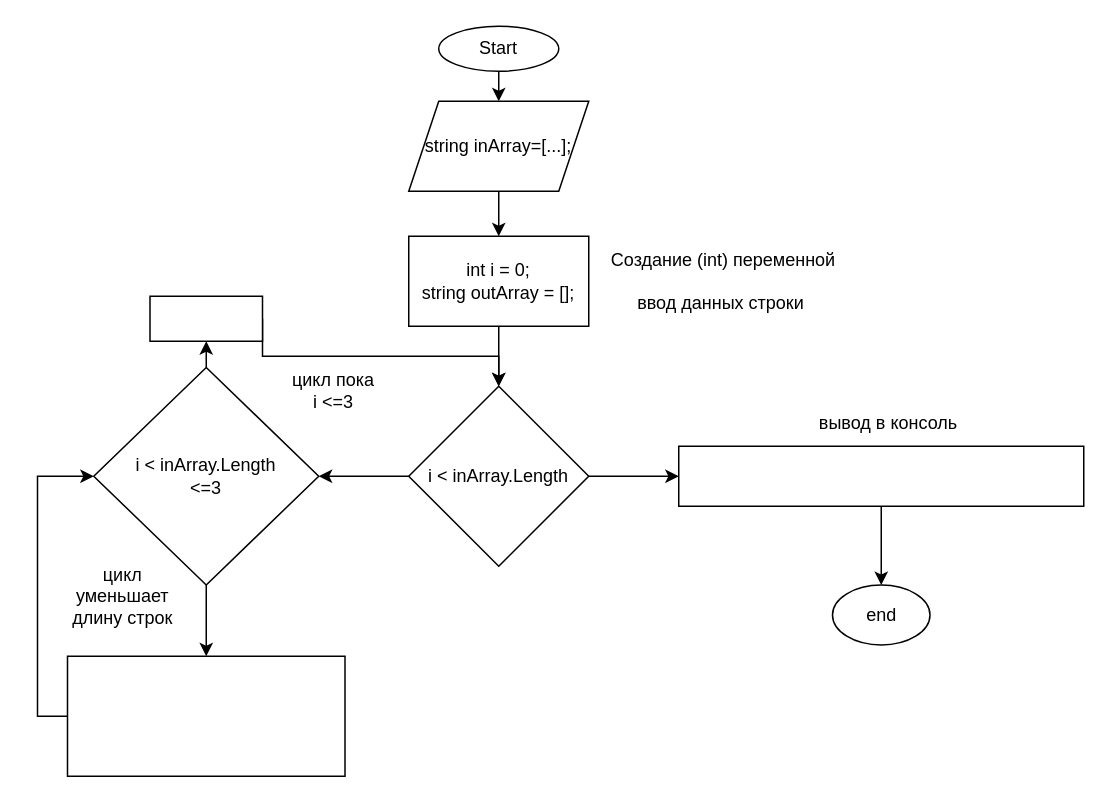
The diagram is 1110 pixels wide and 803 high, and some of its shapes have lost their labels. The shapes that lost their labels are listed below. From the top down, each one's centre as x and y in pixels, then its label:
the point at 205,318: i++
the point at 880,475: Console.WriteLine($"[{string.Join(","inArr}] => [{string.Join(","outArr}]')
the point at 205,715: Array.Resize(ref outArr.Length +1) outArr[outArr.Length -1] = inArr[i]
